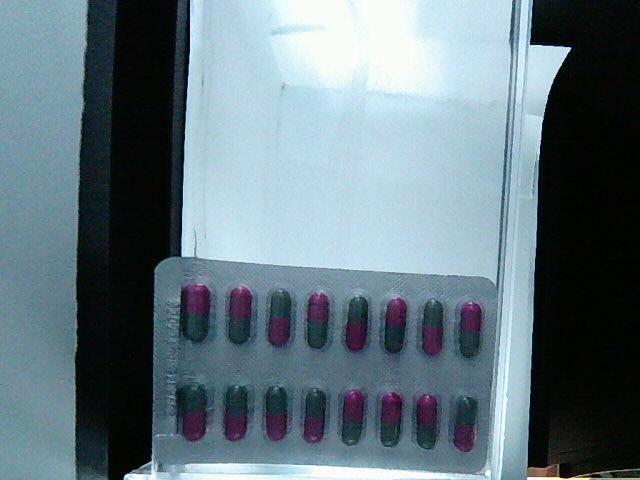Light Front: (152, 257, 500, 473)
Pill Front: (185, 282, 209, 340), (308, 293, 331, 350), (267, 287, 289, 344), (346, 296, 369, 350), (384, 299, 407, 352), (422, 299, 444, 354), (230, 285, 251, 342), (184, 385, 206, 439), (266, 386, 288, 440), (226, 384, 247, 440), (342, 390, 363, 444), (459, 301, 480, 353), (305, 390, 325, 444), (418, 393, 437, 449), (454, 394, 473, 449), (381, 394, 401, 446)
